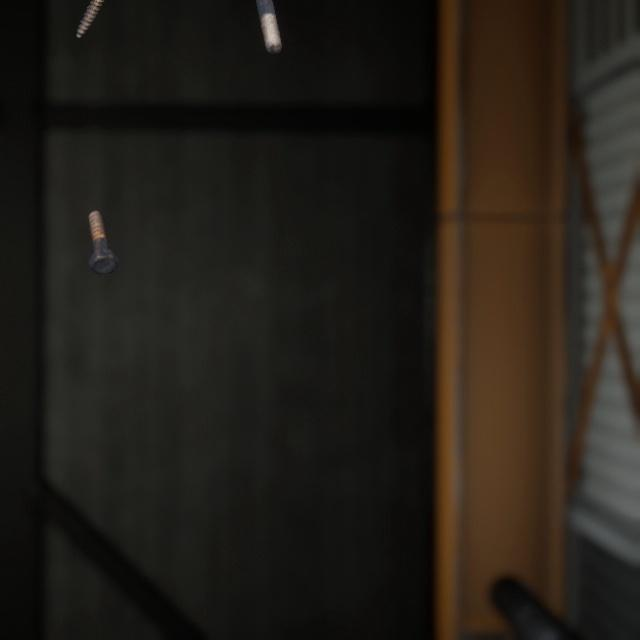bolt: (83, 191, 123, 263), (252, 0, 286, 50), (71, 0, 104, 35)
